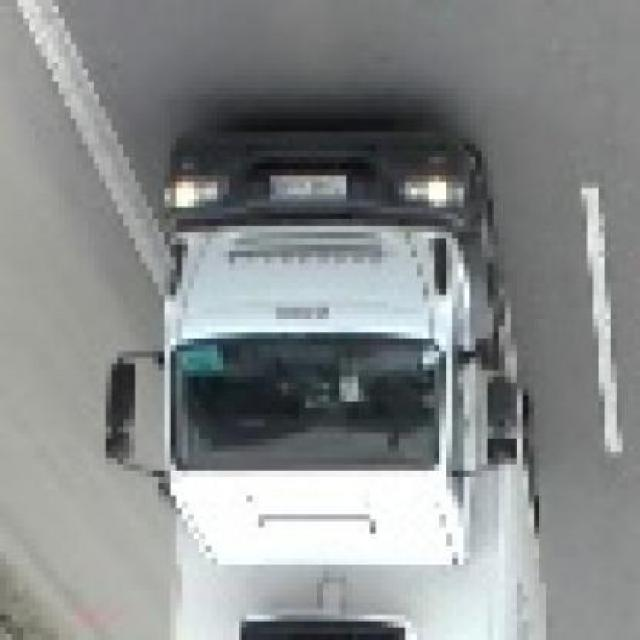truck: (114, 133, 554, 640)
